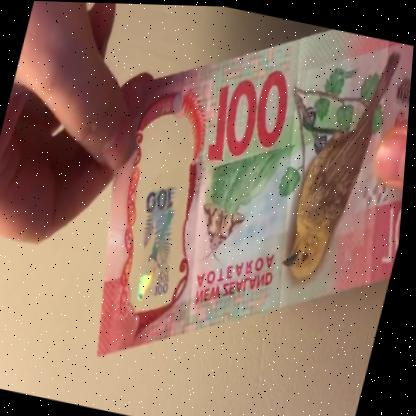100B: (122, 164, 205, 310)
